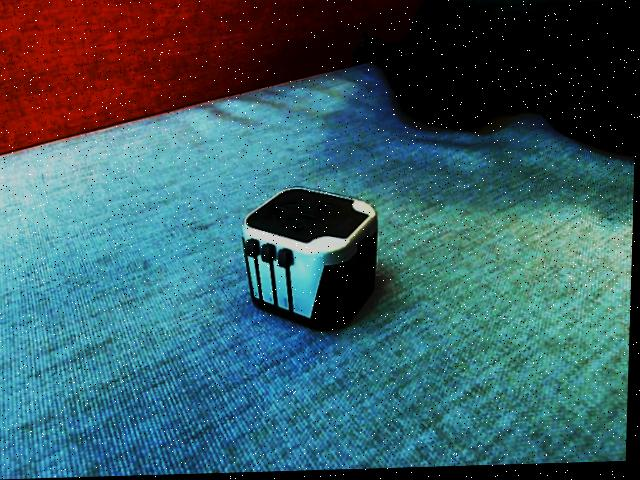adapter: (239, 187, 380, 335)
